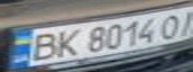0: (103, 20, 127, 51)
1: (121, 18, 145, 47)
4: (136, 15, 163, 44)
8: (84, 24, 109, 53)
B: (21, 29, 63, 62)
I: (172, 6, 193, 36)
K: (48, 26, 84, 59)
O: (154, 10, 187, 39)
